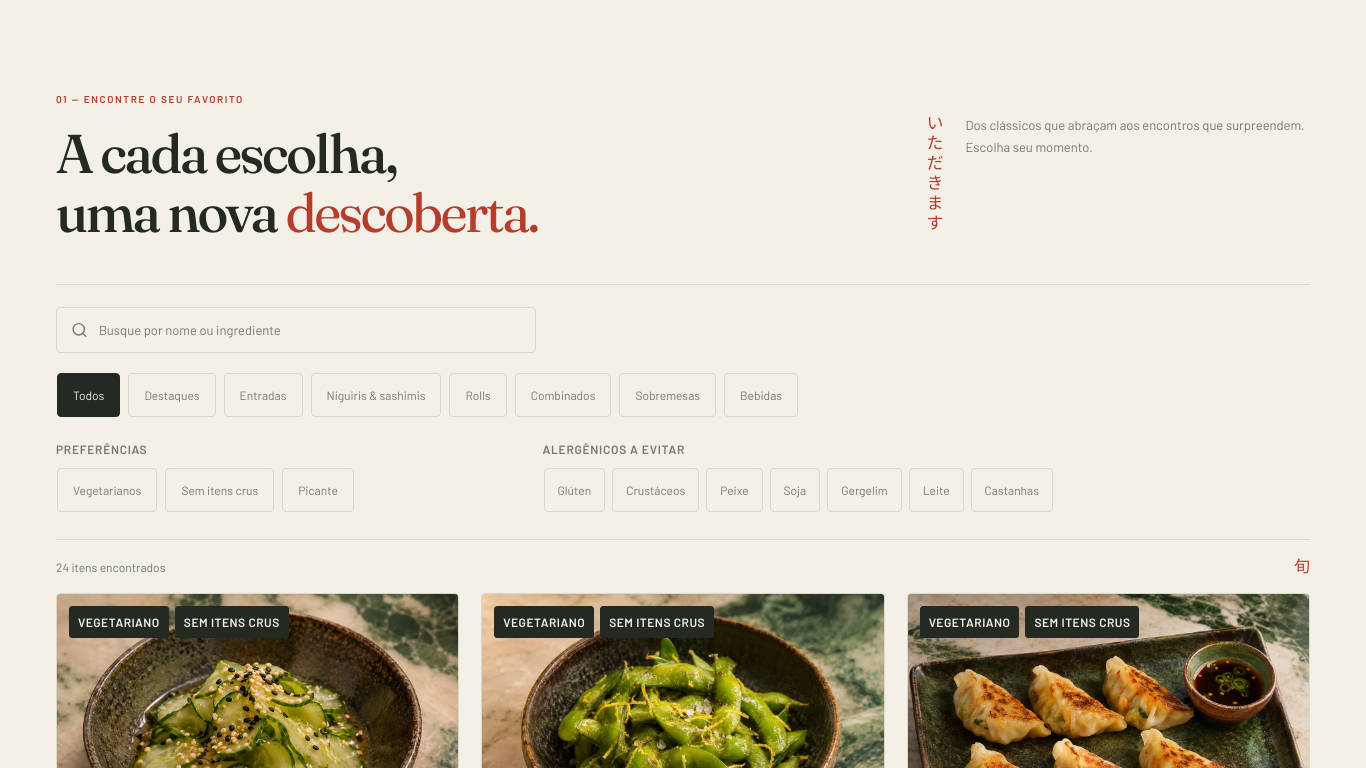
Scenario: DigitalMenu › busca por um termo único e atualiza o contador ao vivo
Type "limão-cravo" into the search field named "Buscar no cardápio" at (310, 330), box [99,321,521,339]
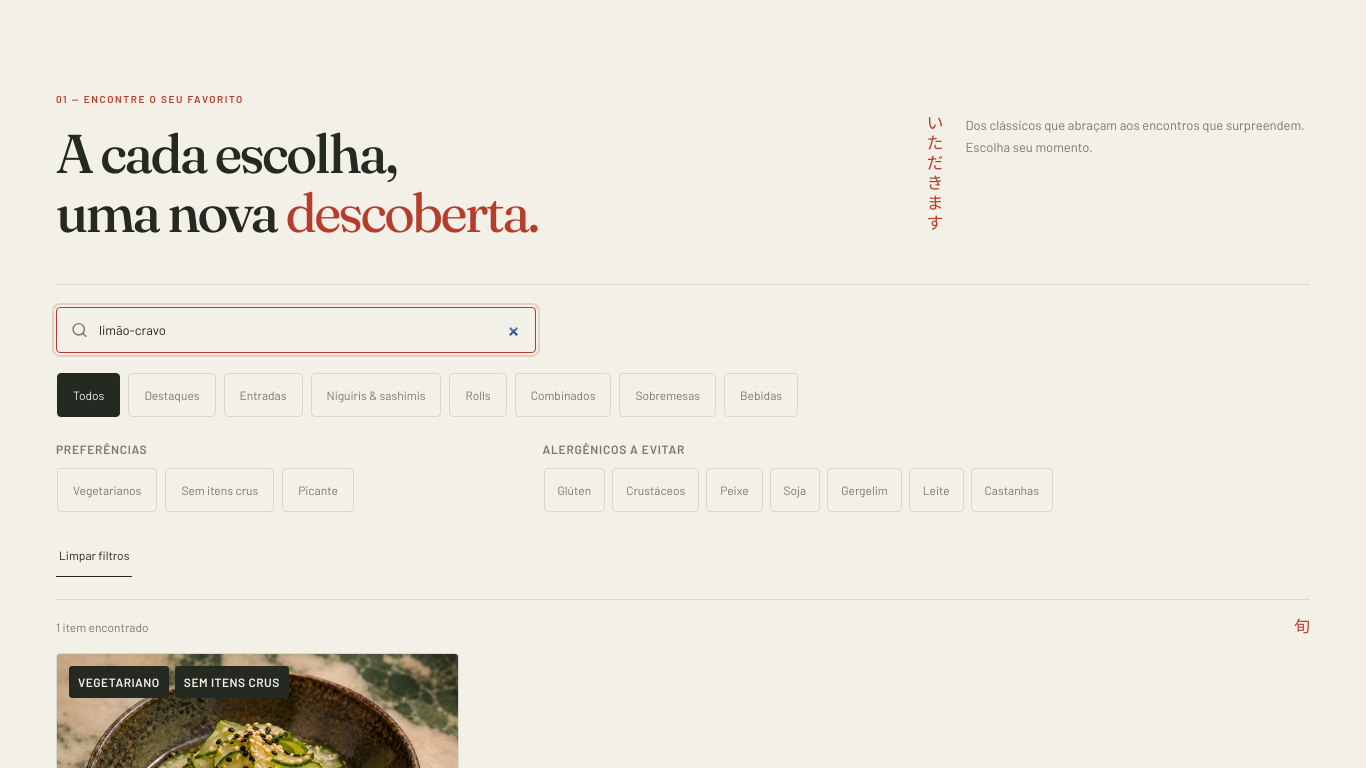
Now the message reads "1 item encontrado", box [56,620,148,634]
